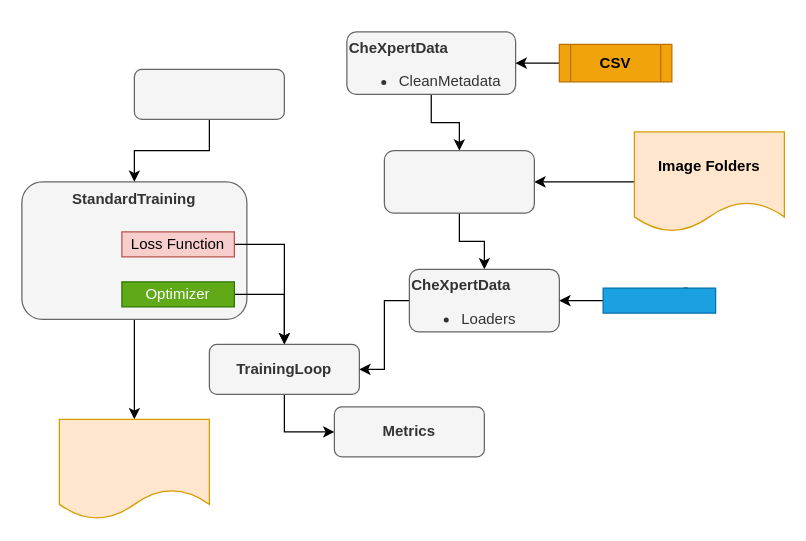
The diagram is 806 pixels wide and 541 high, and some of its shapes have lost their labels. Each missing label, with the centre of its shape:
"CheXpertData DataSet" goes at (458,181).
"NN Model" goes at (208,93).
"Save Folder" goes at (133,468).
"Transformations" goes at (659,300).
